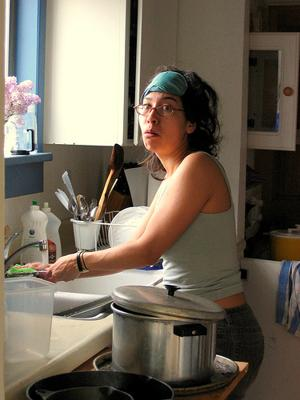person: (19, 63, 267, 400)
